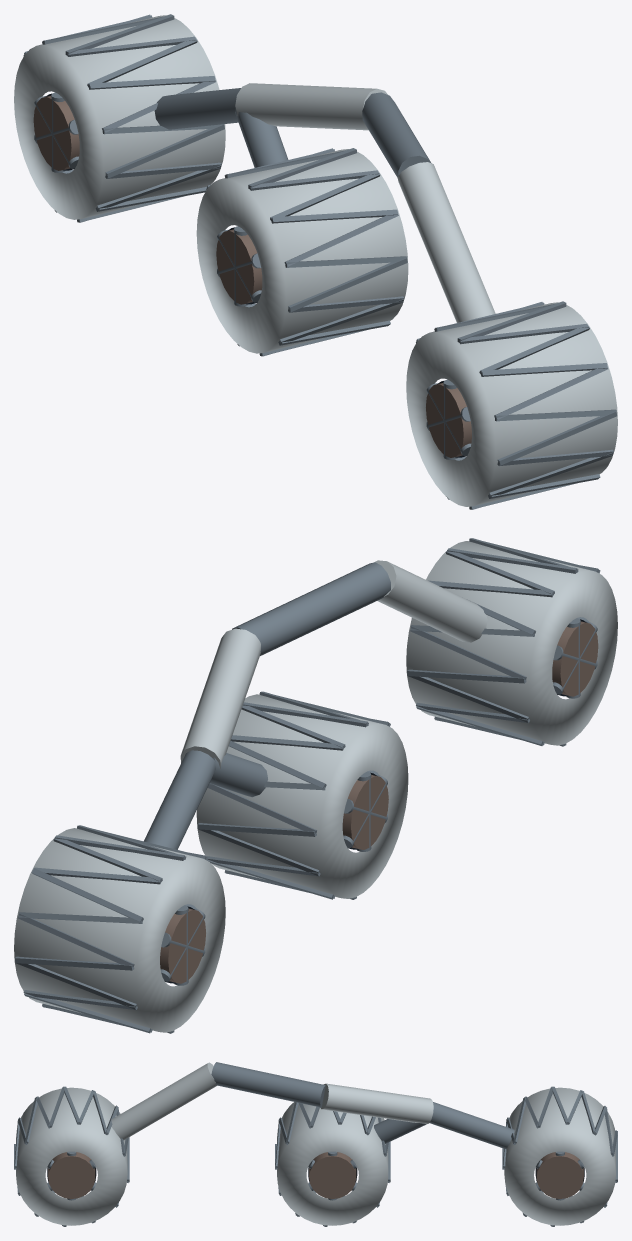
Rendered from curiosity_mobility.rocker_left.glb.
3 renders of one model, top to bottom at view 1: azimuth 30°, elevation 25°; view 2: azimuth 150°, elevation 25°; view 3: azimuth 270°, elevation 25°, orthographic. The views are drawn at different scales.
Visible parts, largest first — view 1: curiosity_mobility.rocker_left.bogie.axle_middle.wheel_middl (×3), curiosity_mobility.rocker_left.steer_front.wheel_front.rim.m (×3), curiosity_mobility.rocker_left.bogie.steer_rear.wheel_rear.r (×3), curiosity_mobility.rocker_left.mesh_Satin_aluminum, curiosity_mobility.rocker_left.bogie.mesh_Machined_steel, curiosity_mobility.rocker_left.mesh_Machined_steel; view 2: curiosity_mobility.rocker_left.bogie.steer_rear.wheel_rear.r (×3), curiosity_mobility.rocker_left.steer_front.wheel_front.rim.m (×3), curiosity_mobility.rocker_left.bogie.axle_middle.wheel_middl (×3), curiosity_mobility.rocker_left.mesh_Satin_aluminum, curiosity_mobility.rocker_left.mesh_Machined_steel, curiosity_mobility.rocker_left.bogie.mesh_Machined_steel; view 3: curiosity_mobility.rocker_left.bogie.steer_rear.wheel_rear.r (×3), curiosity_mobility.rocker_left.steer_front.wheel_front.rim.m (×3), curiosity_mobility.rocker_left.bogie.axle_middle.wheel_middl (×3), curiosity_mobility.rocker_left.mesh_Satin_aluminum, curiosity_mobility.rocker_left.mesh_Machined_steel, curiosity_mobility.rocker_left.bogie.mesh_Machined_steel.
Part boxes in pixels (bbox=[...]): curiosity_mobility.rocker_left.bogie.axle_middle.wheel_middl (×3): bbox=[196, 148, 408, 356]; curiosity_mobility.rocker_left.steer_front.wheel_front.rim.m (×3): bbox=[406, 301, 617, 509]; curiosity_mobility.rocker_left.bogie.steer_rear.wheel_rear.r (×3): bbox=[14, 14, 225, 222]; curiosity_mobility.rocker_left.mesh_Satin_aluminum: bbox=[235, 83, 495, 322]; curiosity_mobility.rocker_left.bogie.mesh_Machined_steel: bbox=[154, 88, 288, 167]; curiosity_mobility.rocker_left.mesh_Machined_steel: bbox=[362, 92, 431, 177]; curiosity_mobility.rocker_left.bogie.steer_rear.wheel_rear.r (×3): bbox=[14, 825, 225, 1033]; curiosity_mobility.rocker_left.steer_front.wheel_front.rim.m (×3): bbox=[406, 538, 617, 746]; curiosity_mobility.rocker_left.bogie.axle_middle.wheel_middl (×3): bbox=[196, 691, 408, 899]; curiosity_mobility.rocker_left.mesh_Satin_aluminum: bbox=[180, 560, 487, 768]; curiosity_mobility.rocker_left.mesh_Machined_steel: bbox=[232, 562, 390, 655]; curiosity_mobility.rocker_left.bogie.mesh_Machined_steel: bbox=[144, 750, 267, 849]; curiosity_mobility.rocker_left.bogie.steer_rear.wheel_rear.r (×3): bbox=[502, 1086, 617, 1226]; curiosity_mobility.rocker_left.steer_front.wheel_front.rim.m (×3): bbox=[14, 1086, 129, 1226]; curiosity_mobility.rocker_left.bogie.axle_middle.wheel_middl (×3): bbox=[275, 1102, 390, 1226]; curiosity_mobility.rocker_left.mesh_Satin_aluminum: bbox=[109, 1062, 433, 1139]; curiosity_mobility.rocker_left.mesh_Machined_steel: bbox=[211, 1062, 325, 1107]; curiosity_mobility.rocker_left.bogie.mesh_Machined_steel: bbox=[374, 1102, 514, 1149].
Bounding box in the file's own units: 0.4941 × 0.7506 × 2.71.
